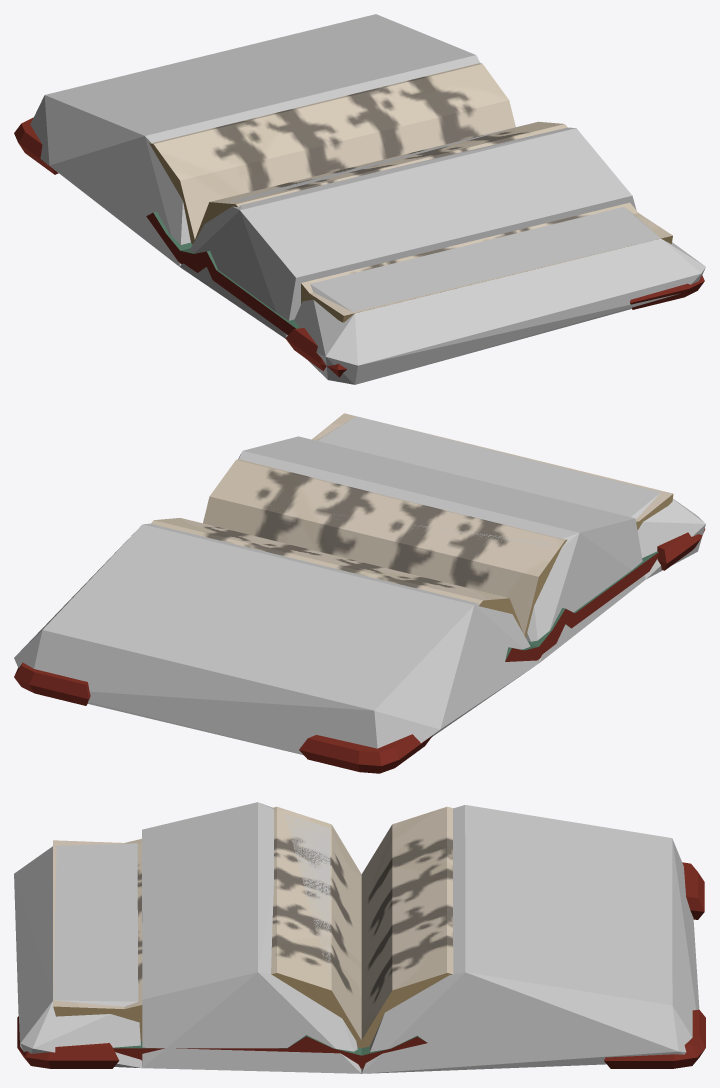
File: SM_Item_Spellbook_Open_01.fbx
The picture shows the model from 3 angles, top to bottom: view 1: azimuth 30°, elevation 25°; view 2: azimuth 150°, elevation 25°; view 3: azimuth 270°, elevation 25°; orthographic projection. The views are drawn at different scales.
Visible parts, largest first — view 1: SM_Item_Spellbook_Open_01_ConvexHulls, SM_Item_Spellbook_Open_01; view 2: SM_Item_Spellbook_Open_01_ConvexHulls, SM_Item_Spellbook_Open_01; view 3: SM_Item_Spellbook_Open_01_ConvexHulls, SM_Item_Spellbook_Open_01.
Part boxes in pixels (<box>): SM_Item_Spellbook_Open_01_ConvexHulls: <box>30,14,705,384</box>; SM_Item_Spellbook_Open_01: <box>14,63,704,377</box>; SM_Item_Spellbook_Open_01_ConvexHulls: <box>14,416,705,754</box>; SM_Item_Spellbook_Open_01: <box>14,413,705,773</box>; SM_Item_Spellbook_Open_01_ConvexHulls: <box>14,802,699,1073</box>; SM_Item_Spellbook_Open_01: <box>17,806,705,1068</box>.
Size of the model in its own units: 31.19 by 46.59 by 7.4.
Materials: 2 (1 with a texture image).
